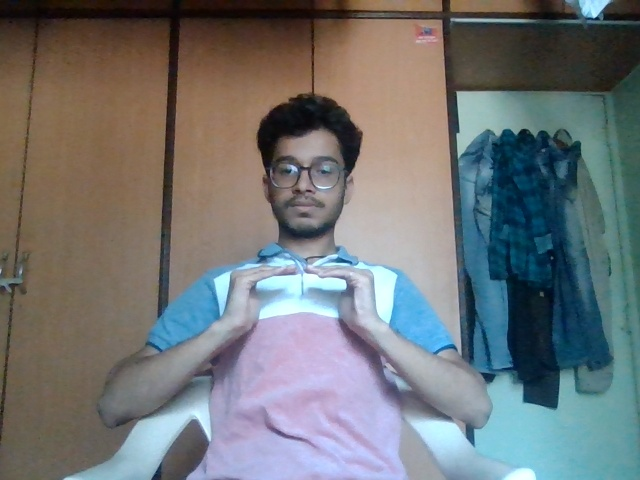afternoon: (217, 249, 410, 364)
